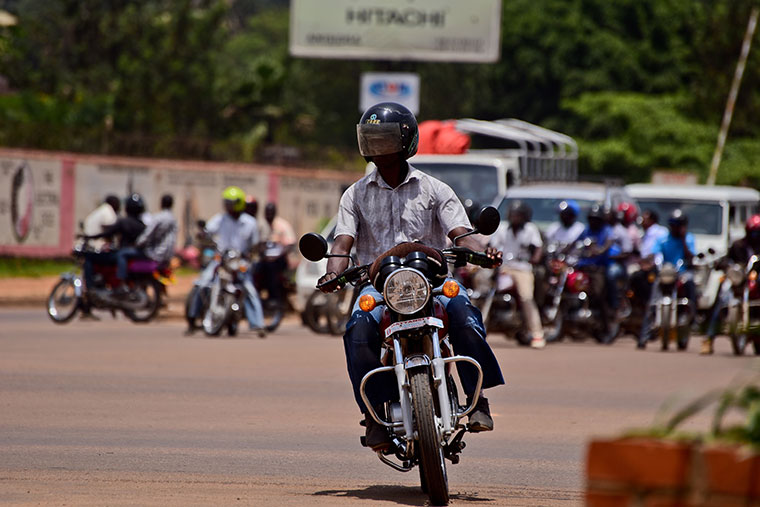helmet: (320, 95, 512, 340)
